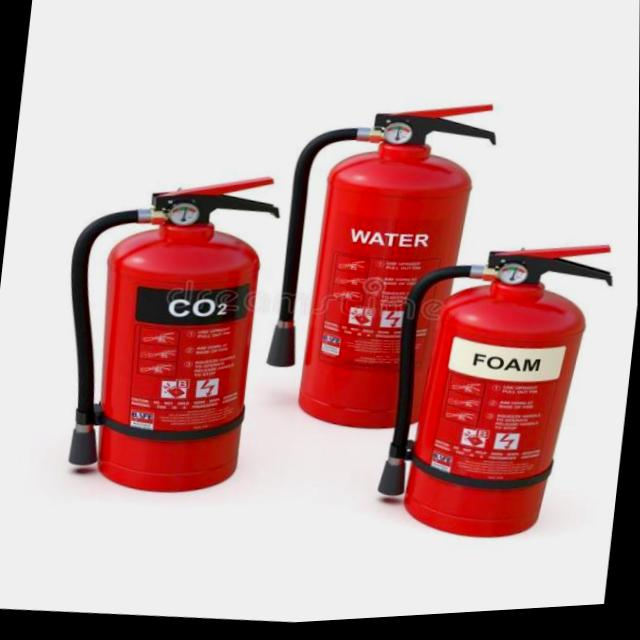FireExtinguisher: (253, 81, 511, 458), (361, 226, 626, 567), (43, 154, 294, 512)
